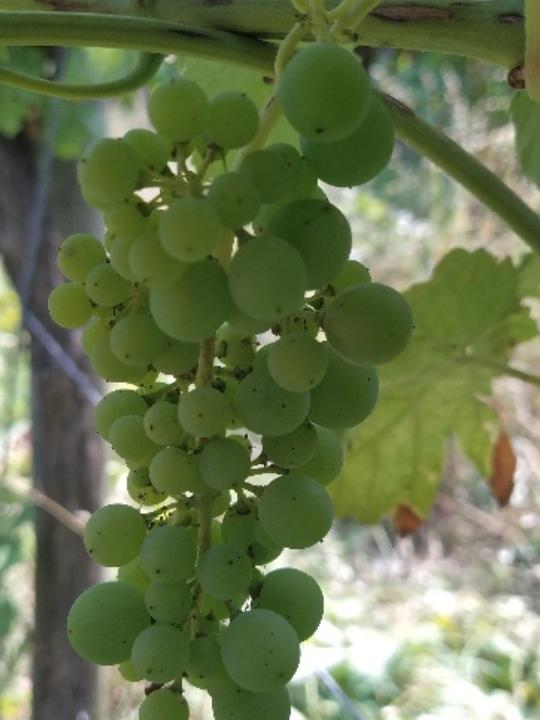grape: (39, 23, 425, 720)
